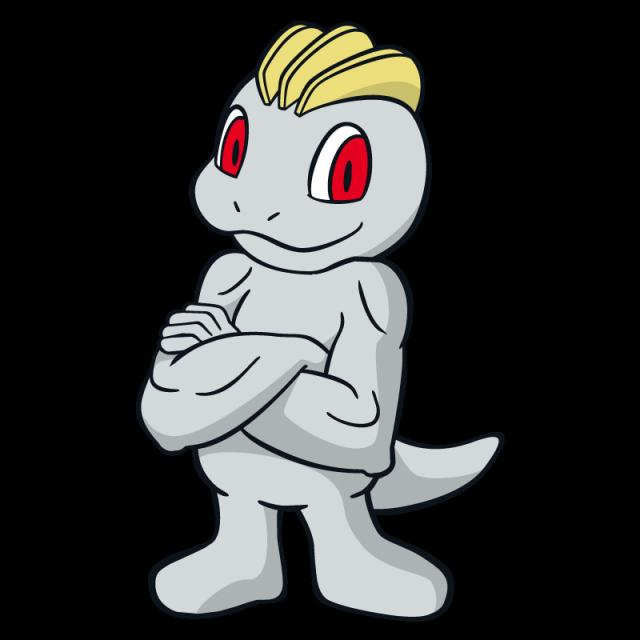Machop: (125, 7, 459, 624)
